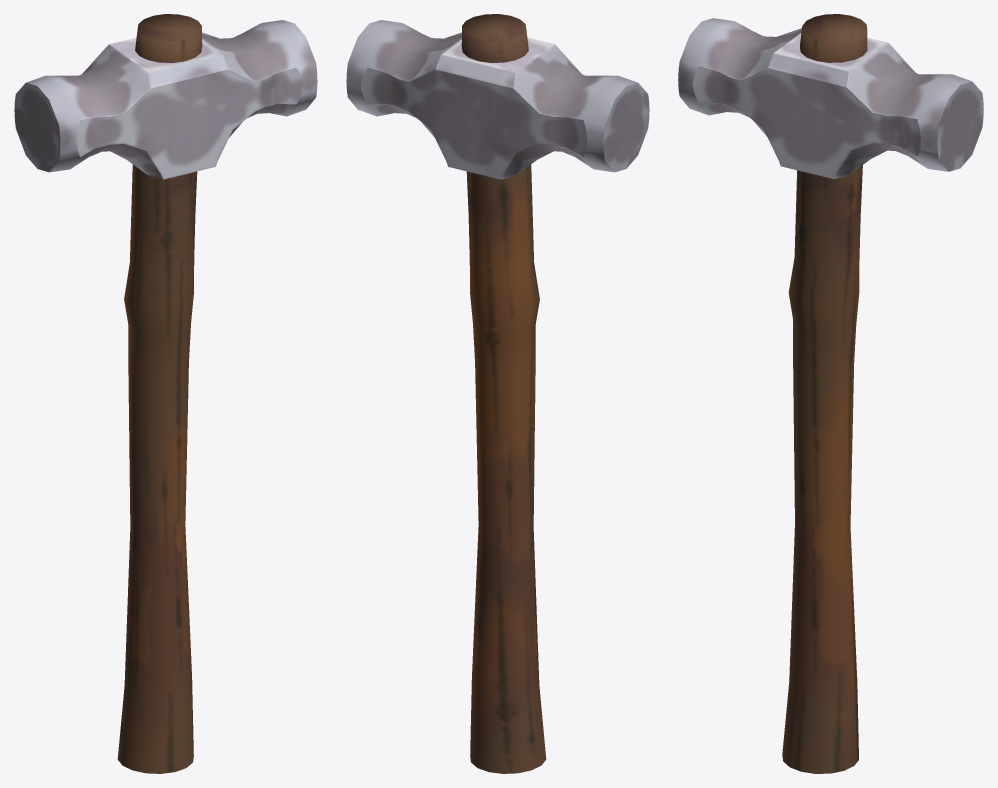
File: Hammer_Large_Steel.fbx
3 views of the same model, side by side, from view 1: azimuth 30°, elevation 25°; view 2: azimuth 150°, elevation 25°; view 3: azimuth 330°, elevation 25° (orthographic).
Parts seen in each view (by area): view 1: Hammer_Large_Steel; view 2: Hammer_Large_Steel; view 3: Hammer_Large_Steel.
Boxes of the visible parts, bbox=[...] form: Hammer_Large_Steel: bbox=[14, 14, 317, 773]; Hammer_Large_Steel: bbox=[346, 14, 649, 773]; Hammer_Large_Steel: bbox=[678, 14, 983, 773].
Size of the model in its own units: 18.52 by 50.08 by 5.97.
